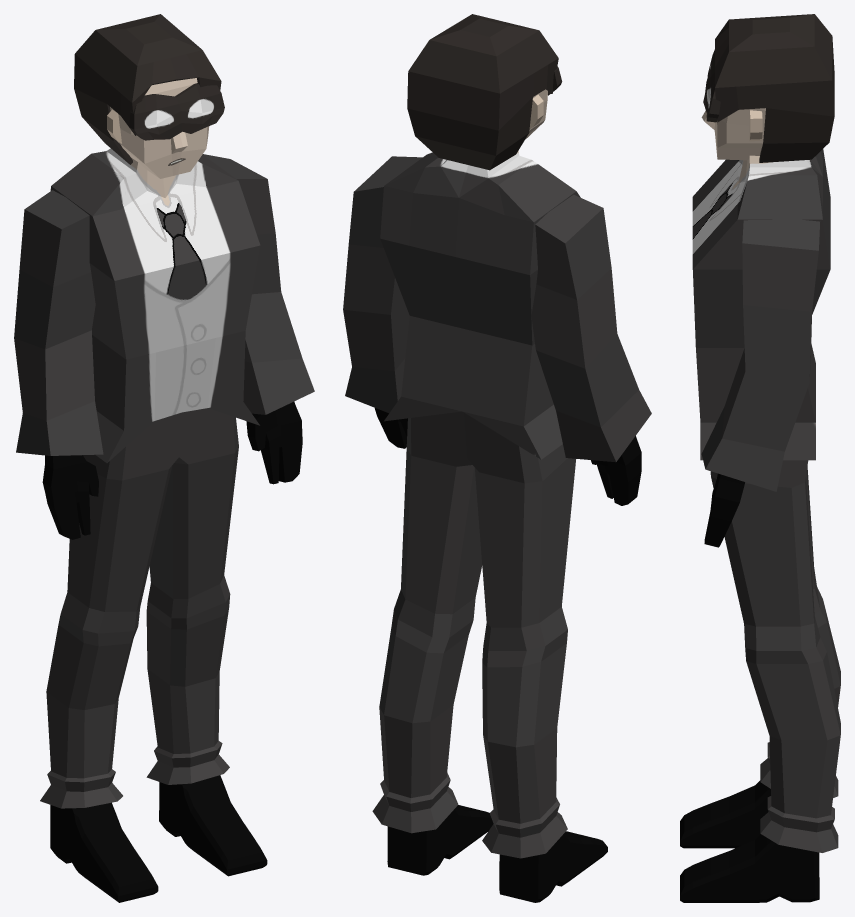
File: maoh.fbx
The picture shows the model from 3 angles, left to right: view 1: azimuth 30°, elevation 25°; view 2: azimuth 150°, elevation 25°; view 3: azimuth 270°, elevation 25°; orthographic projection. The views are drawn at different scales.
Parts seen in each view (by area): view 1: Cube.005, Cube.006, Cube.007, Cube.003, Cube.002, Cube.008, Cube.004, Cube.001; view 2: Cube.005, Cube.006, Cube.007, Cube.002, Cube.003, Cube.008; view 3: Cube.005, Cube.006, Cube.007, Cube.002, Cube.003, Cube.001, Cube.008, Cube.004, Cube.009.
Part boxes in pixels (x1,y1,x2,y2): Cube.005: [40, 408, 238, 808]; Cube.006: [50, 148, 260, 462]; Cube.007: [14, 154, 314, 455]; Cube.003: [50, 775, 267, 902]; Cube.002: [74, 14, 221, 164]; Cube.008: [42, 401, 302, 539]; Cube.004: [129, 83, 224, 140]; Cube.001: [110, 78, 209, 178]; Cube.005: [372, 411, 575, 858]; Cube.006: [380, 151, 580, 459]; Cube.007: [343, 156, 651, 462]; Cube.002: [407, 14, 558, 170]; Cube.003: [387, 805, 607, 902]; Cube.008: [374, 408, 641, 505]; Cube.005: [710, 460, 840, 852]; Cube.006: [692, 149, 830, 460]; Cube.007: [701, 219, 819, 491]; Cube.002: [715, 14, 834, 162]; Cube.003: [680, 780, 819, 902]; Cube.001: [701, 108, 765, 160]; Cube.008: [704, 473, 744, 547]; Cube.004: [703, 49, 720, 122]; Cube.009: [749, 110, 762, 141].
Bounding box in the file's own units: 95.57 × 284 × 49.08.
